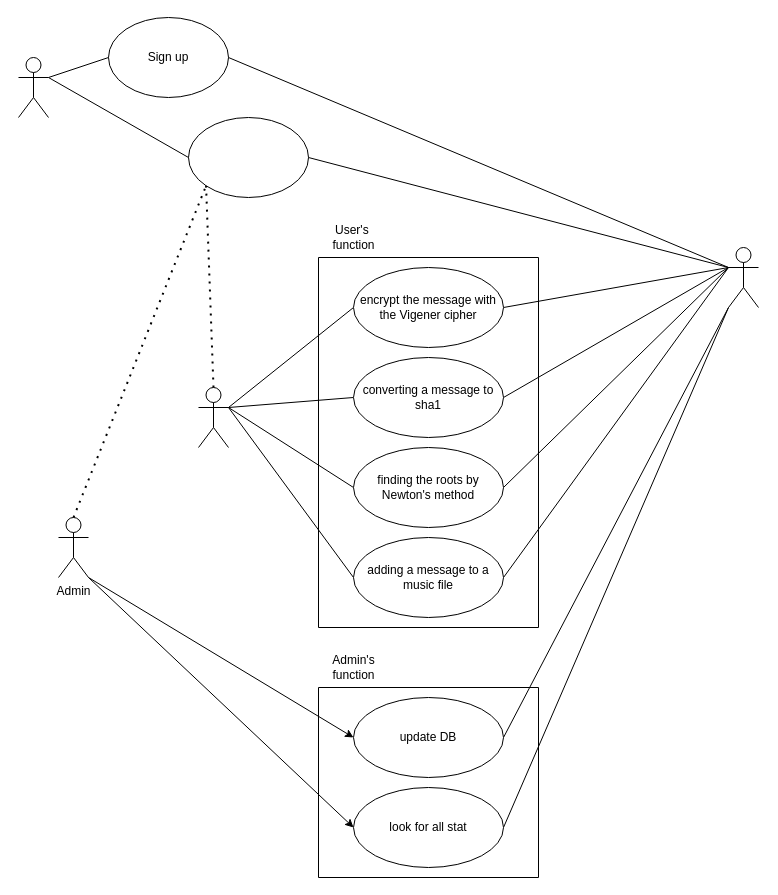
The diagram is 778 pixels wide and 895 high, and some of its shapes have lost their labels. Each missing label, with the box of its shape:
Guest: (18, 56, 48, 118)
Server: (728, 246, 758, 308)
Sign in: (188, 116, 308, 198)
User: (198, 386, 228, 448)
